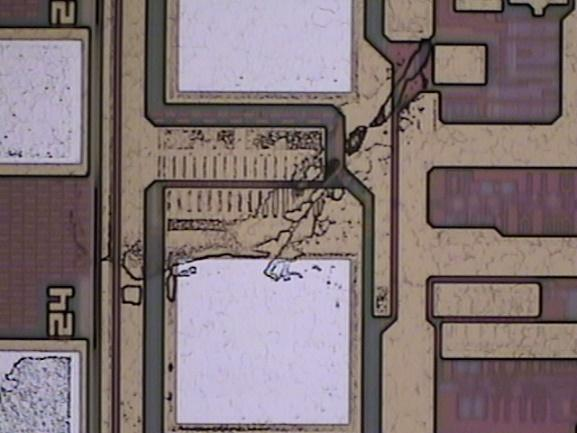PO CONTAMINATION: (121, 36, 440, 308)
